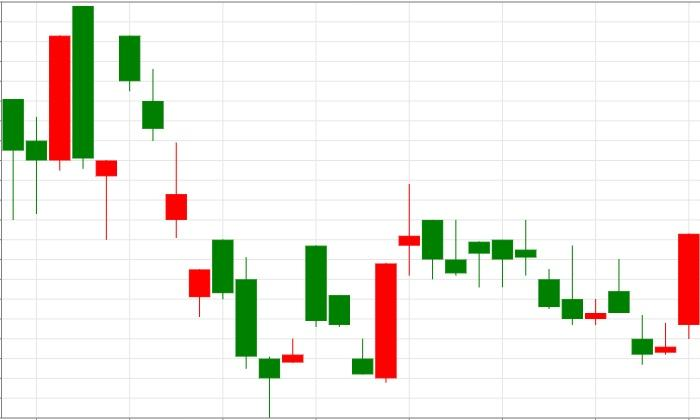bullish_engulfing_rise: (305, 245, 397, 383)
